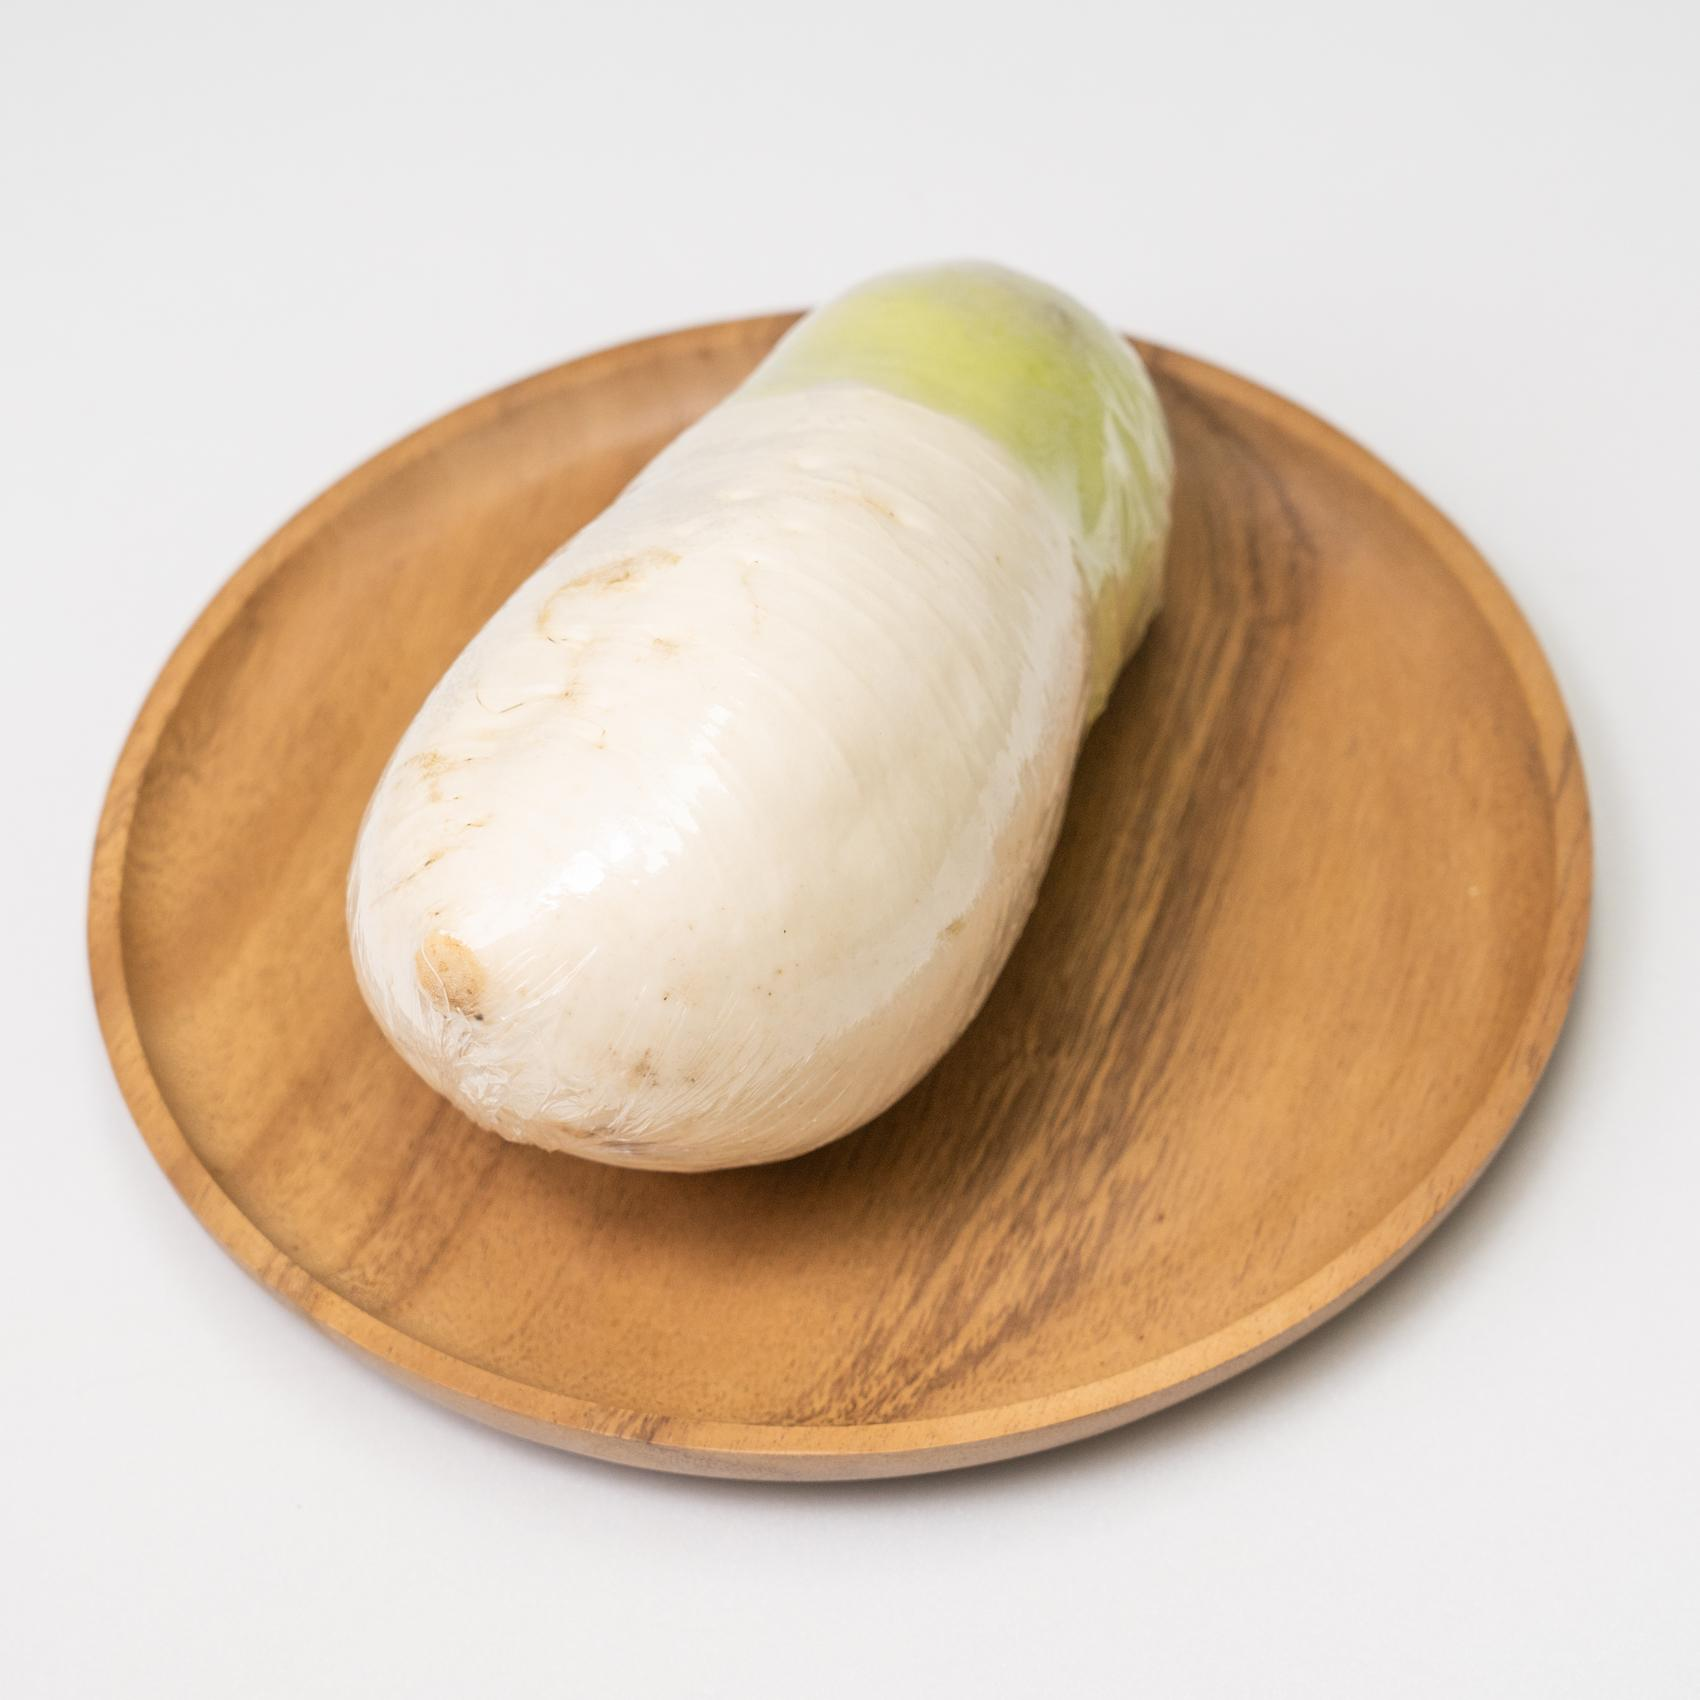radish: (855, 850, 1700, 1700)
